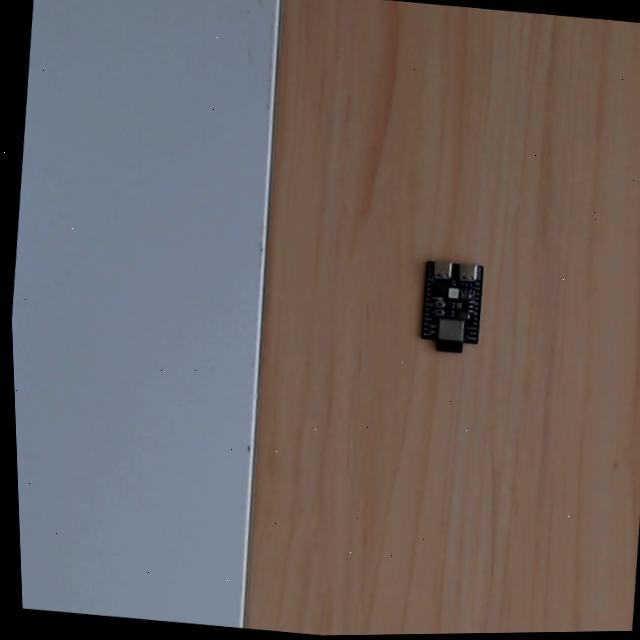ESP32C3-DevKit: (415, 257, 487, 355)
